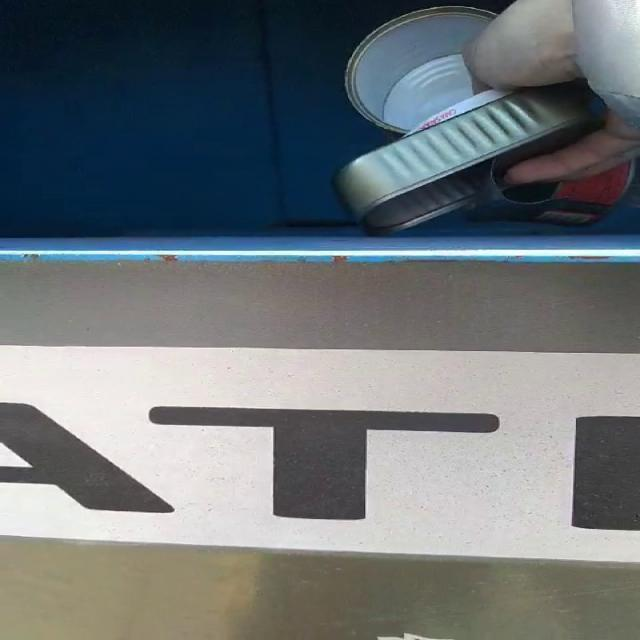Bin: (1, 0, 640, 640), (1, 0, 640, 423), (1, 0, 512, 236), (1, 499, 640, 640), (3, 541, 640, 640), (19, 262, 637, 299)
Metal: (335, 7, 629, 234)
